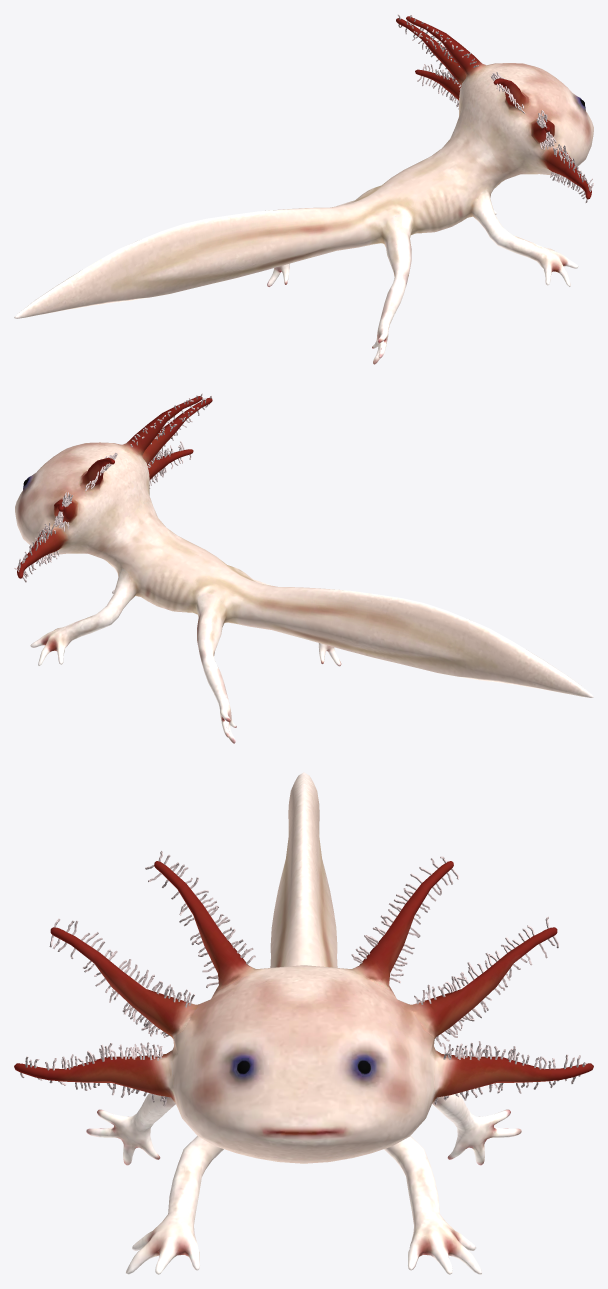
Rendered from axolotl.glb.
3 renders of one model, top to bottom at view 1: azimuth 30°, elevation 25°; view 2: azimuth 150°, elevation 25°; view 3: azimuth 270°, elevation 25°, orthographic. The views are drawn at different scales.
Visible parts, largest first — view 1: axl_low_BSurfaceMesh_0, Curves_Fur Material_0; view 2: axl_low_BSurfaceMesh_0, Curves_Fur Material_0; view 3: axl_low_BSurfaceMesh_0, Curves_Fur Material_0.
Boxes of the visible parts, bbox=[...] form: axl_low_BSurfaceMesh_0: bbox=[14, 16, 593, 364]; Curves_Fur Material_0: bbox=[397, 14, 593, 202]; axl_low_BSurfaceMesh_0: bbox=[15, 396, 593, 743]; Curves_Fur Material_0: bbox=[14, 393, 211, 582]; axl_low_BSurfaceMesh_0: bbox=[14, 772, 593, 1274]; Curves_Fur Material_0: bbox=[20, 851, 586, 1106].
Bounding box in the file's own units: 0.4859 × 0.2039 × 0.2563.
2 materials, 1 textured.
